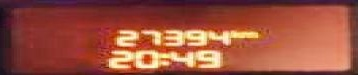0: (131, 48, 158, 68)
2: (103, 48, 130, 68), (111, 28, 136, 45)
3: (160, 28, 182, 45)
4: (165, 48, 190, 67), (206, 29, 228, 44)
7: (136, 29, 160, 44)
9: (193, 48, 220, 68), (182, 28, 206, 45)
X: (228, 28, 241, 38), (241, 30, 258, 37), (158, 51, 166, 65)
